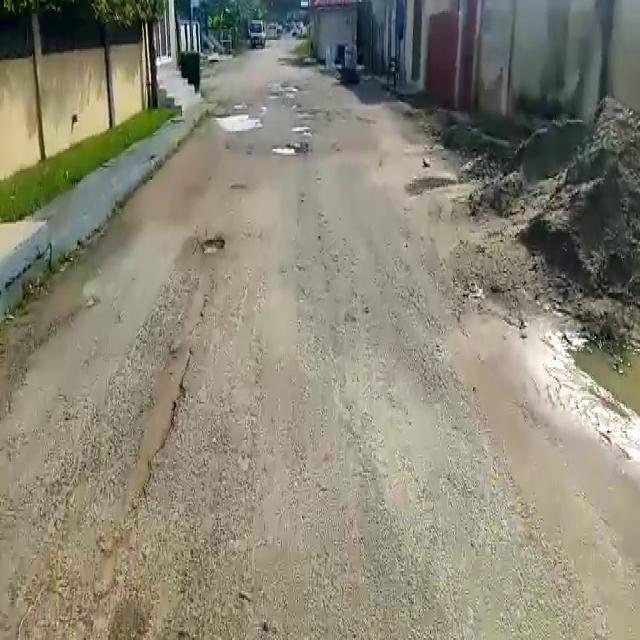pothole: (211, 109, 264, 131), (272, 142, 309, 161), (200, 236, 227, 258)
